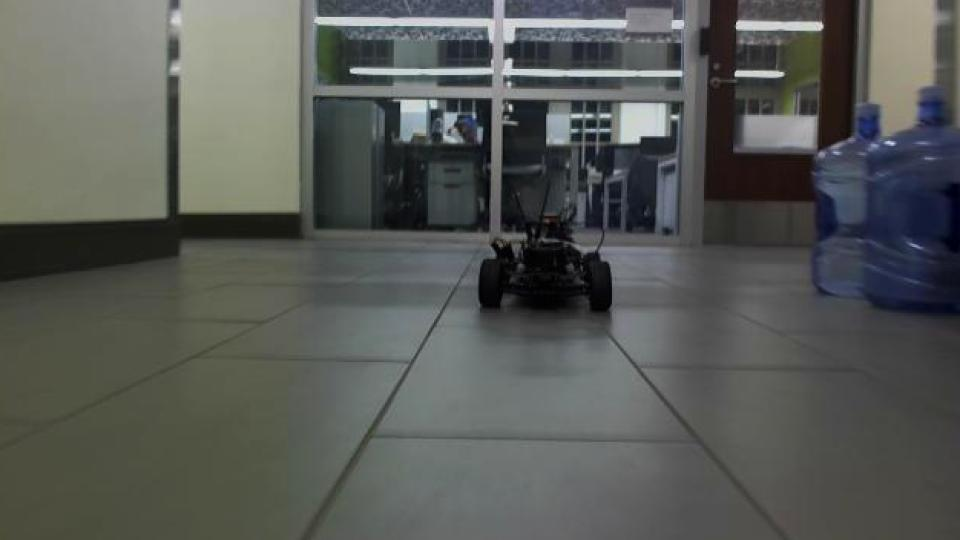car: (474, 178, 615, 314)
